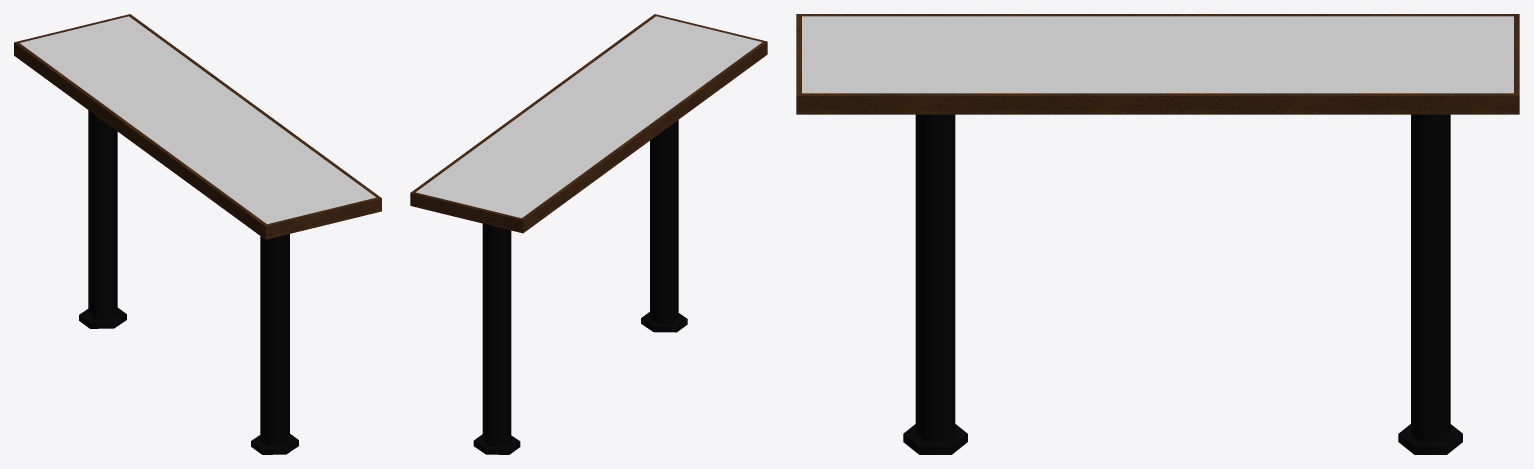
File: int_table_c_001.FBX
3 renders of one model, left to right at view 1: azimuth 30°, elevation 25°; view 2: azimuth 150°, elevation 25°; view 3: azimuth 270°, elevation 25°, orthographic. The views are drawn at different scales.
Visible parts, largest first — view 1: int_table_c_001; view 2: int_table_c_001; view 3: int_table_c_001.
Part boxes in pixels (x1,y1,x2,y2): int_table_c_001: (14, 14, 381, 454); int_table_c_001: (410, 14, 767, 454); int_table_c_001: (796, 14, 1519, 454).
Size of the model in its own units: 51.56 by 114 by 193.
